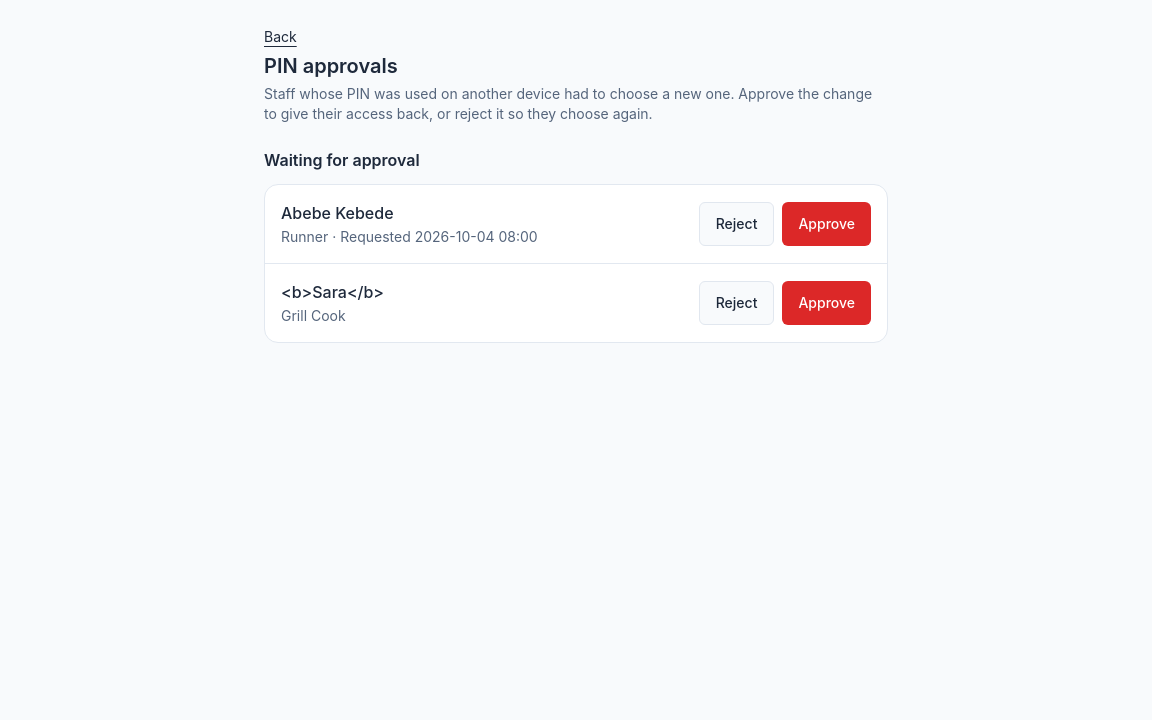
it: PinApprovalsPage › not_found: explains and refreshes the list
Click the button with aria-label "Reject Abebe Kebede": (737, 224) [699,202,774,246]
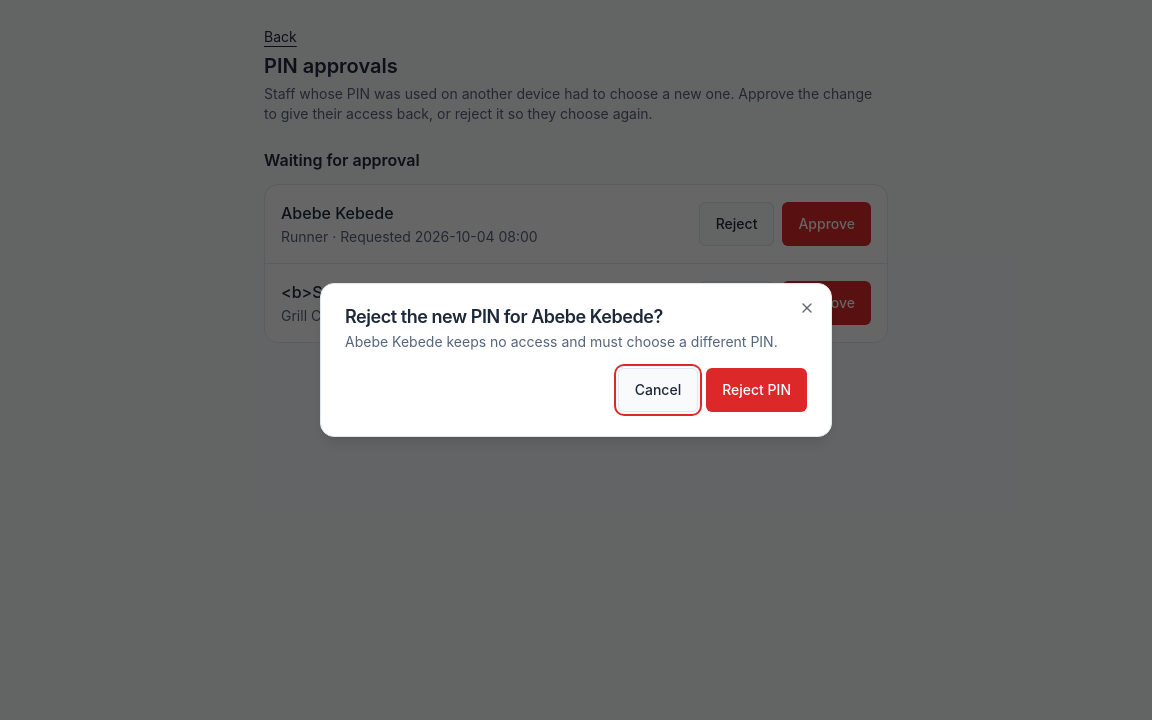
Click the button "Reject PIN": (757, 390) [706,368,807,412]
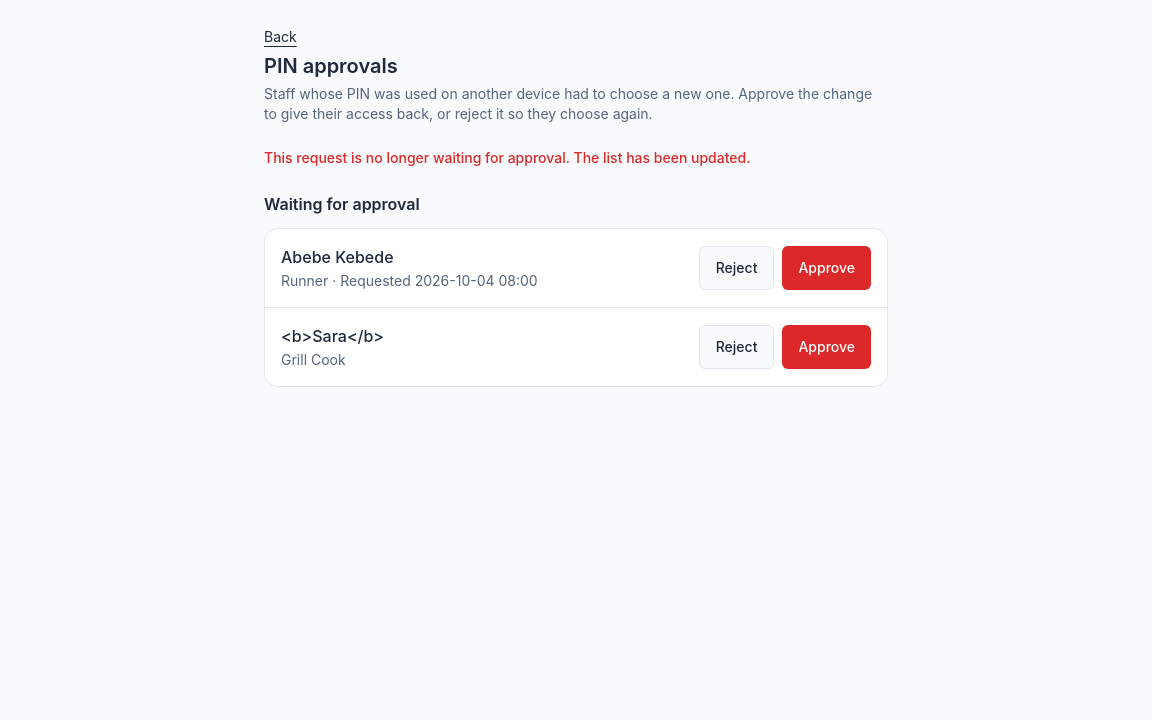
Expected: the message shows "This request is no longer waiting for approval.", [264,149,750,166]
